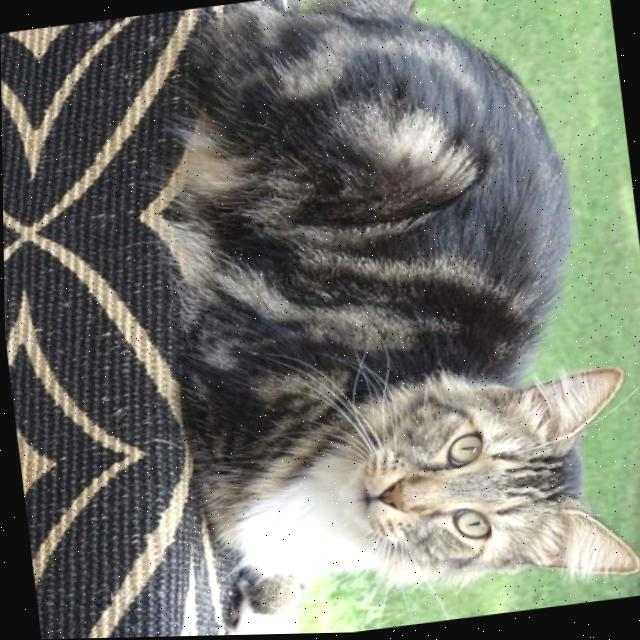American Bobtail: (133, 0, 640, 638)
